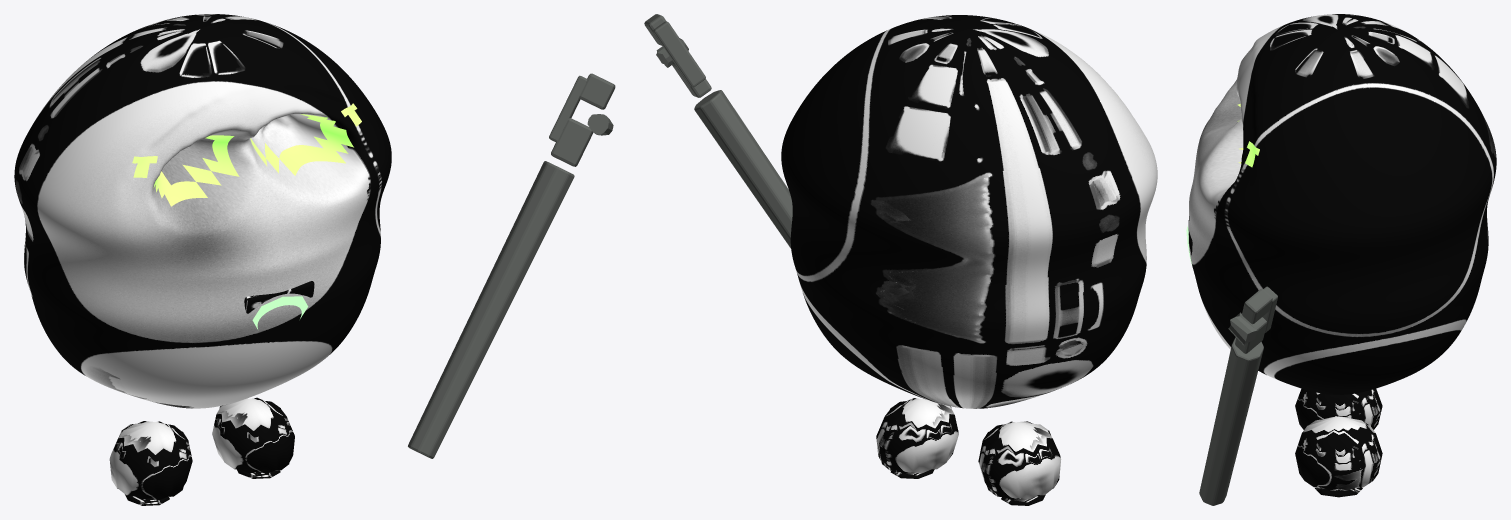
The model's file is globbler.glb.
3 renders of one model, left to right at view 1: azimuth 30°, elevation 25°; view 2: azimuth 150°, elevation 25°; view 3: azimuth 270°, elevation 25°, orthographic. The views are drawn at different scales.
Visible parts, largest first — view 1: Globbler_Body, Wrench; view 2: Globbler_Body, Wrench; view 3: Globbler_Body, Wrench.
Boxes of the visible parts, x1,y1,x2,y2 form: Globbler_Body: (14, 14, 391, 505); Wrench: (408, 73, 615, 458); Globbler_Body: (781, 15, 1157, 505); Wrench: (644, 14, 792, 248); Globbler_Body: (1186, 14, 1496, 497); Wrench: (1199, 286, 1277, 505).
Size of the model in its own units: 0.9709 by 0.7895 by 0.5101.
Materials: 4 (1 with a texture image).
